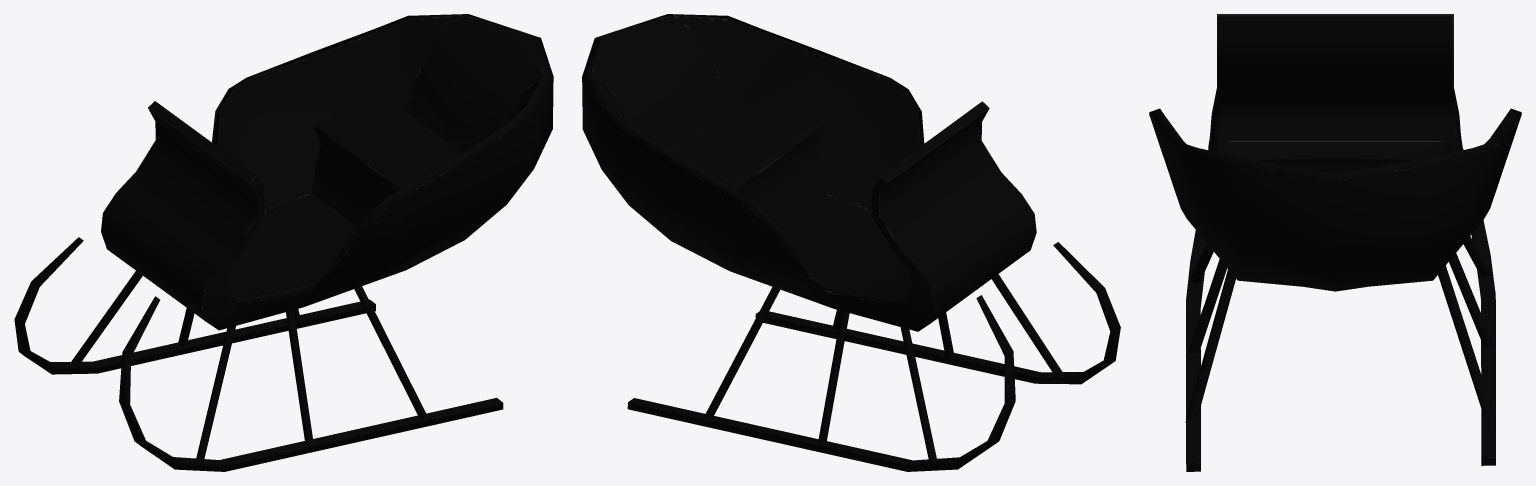
File: sleigh.glb
3 views of the same model, side by side, from view 1: azimuth 30°, elevation 25°; view 2: azimuth 150°, elevation 25°; view 3: azimuth 270°, elevation 25° (orthographic). The views are drawn at different scales.
Visible parts, largest first — view 1: node_id34, node_id36; view 2: node_id34, node_id36; view 3: node_id34, node_id36.
Boxes of the visible parts, x1,y1,x2,y2 form: node_id34: (101,14,553,330); node_id36: (14,237,503,471); node_id34: (582,14,1036,331); node_id36: (627,242,1120,471); node_id34: (1149,14,1521,291); node_id36: (1185,148,1495,471).
Size of the model in its own units: 0.512 by 0.3153 by 0.3028.
Materials: 2 (2 with a texture image).
